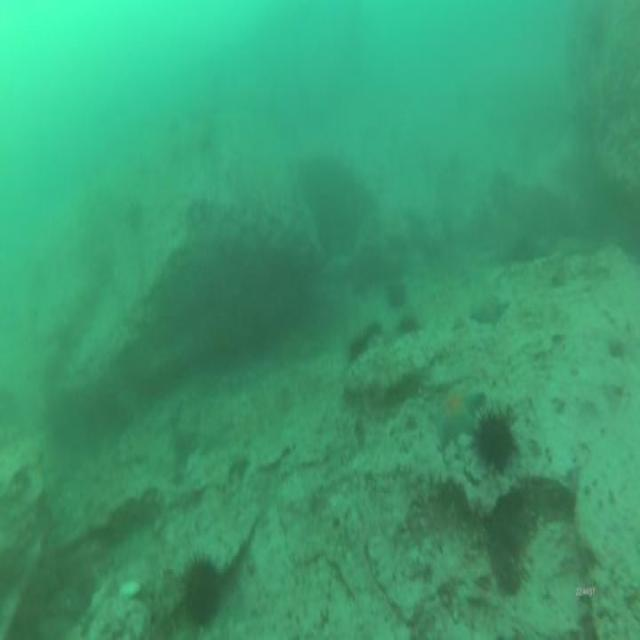echinus: (176, 556, 229, 629), (473, 404, 516, 480), (343, 328, 372, 369), (386, 277, 408, 316)
holothurian: (484, 471, 580, 597)
starfish: (427, 387, 487, 452), (470, 288, 510, 332)
